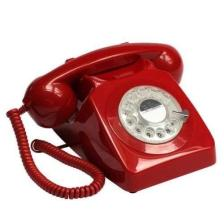red: (40, 51, 182, 187)
